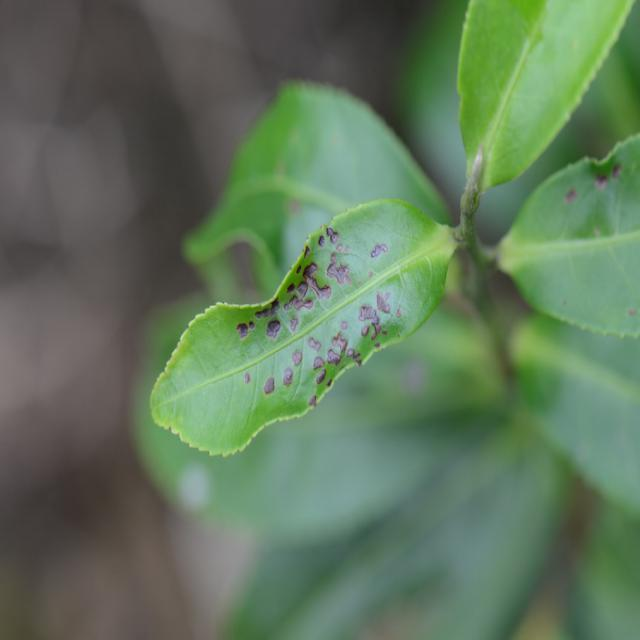Tea red scab: (231, 232, 443, 407)
